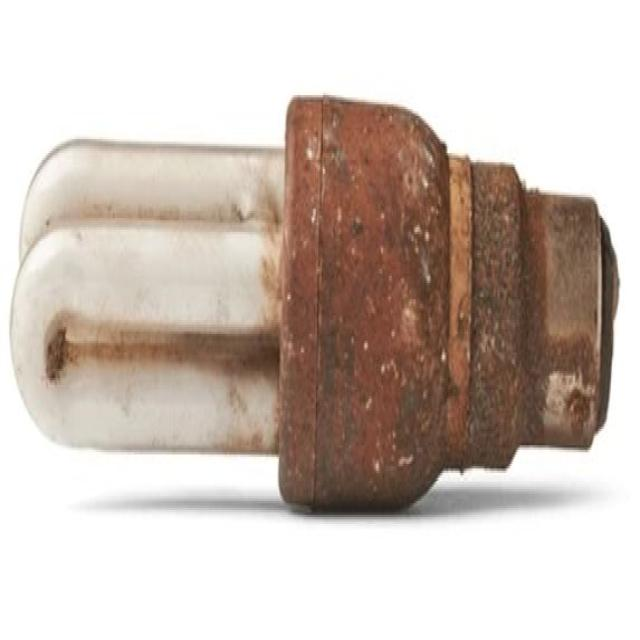electronic: (9, 90, 620, 512)
